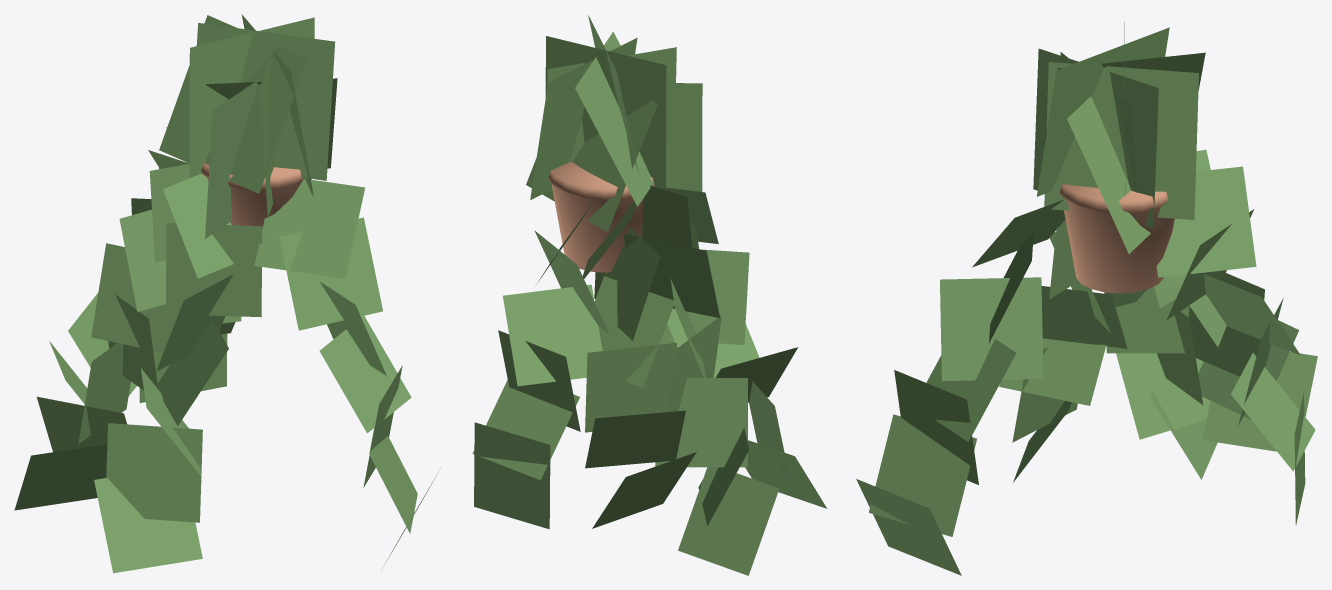
Rendered from Garage_Plant.glb.
3 views of the same model, side by side, from view 1: azimuth 30°, elevation 25°; view 2: azimuth 150°, elevation 25°; view 3: azimuth 270°, elevation 25° (orthographic). The views are drawn at different scales.
Parts seen in each view (by area): view 1: Garage_Plant; view 2: Garage_Plant; view 3: Garage_Plant.
Part boxes in pixels (bbox=[...]): Garage_Plant: bbox=[14, 14, 440, 573]; Garage_Plant: bbox=[472, 15, 827, 575]; Garage_Plant: bbox=[856, 22, 1317, 575].
Bounding box in the file's own units: 0.5765 × 0.8586 × 0.7265.
